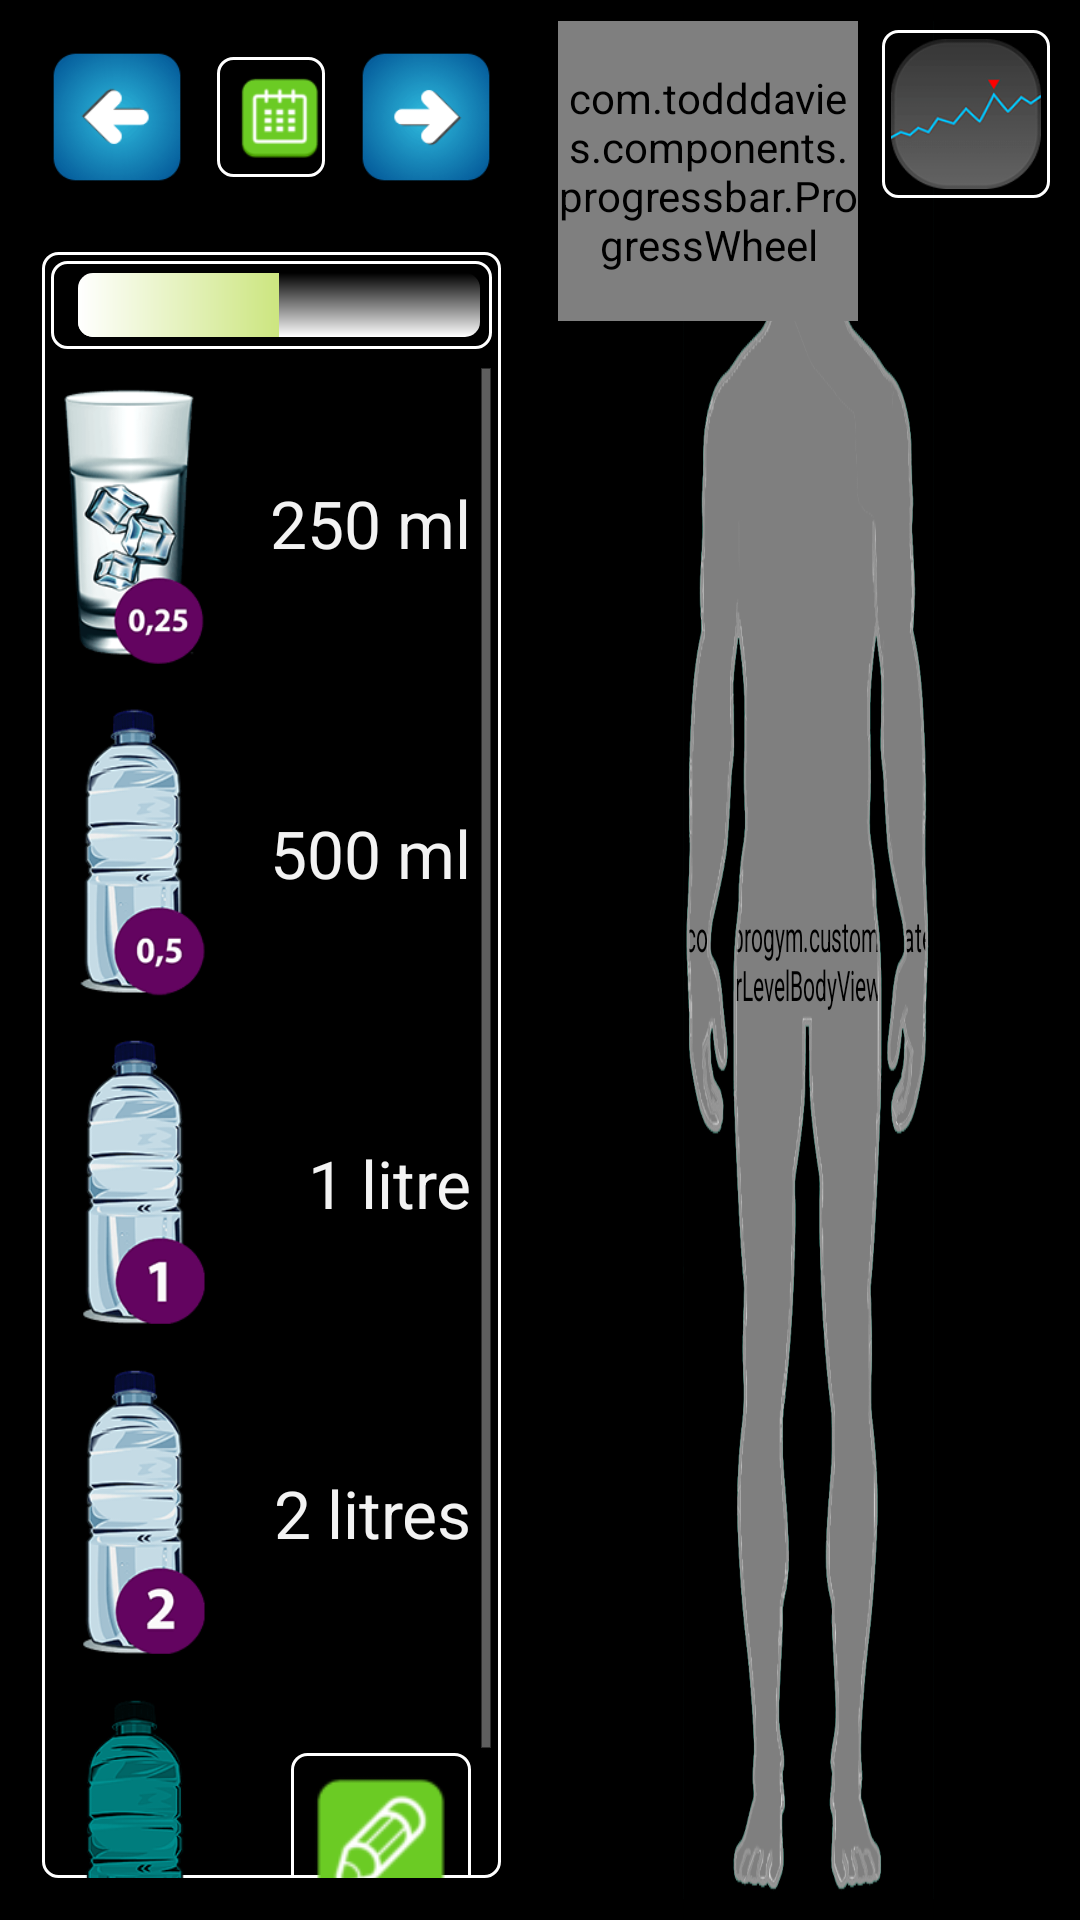

Icons on this 1080 × 1920 Android screen, each with the point to tap as (x=x, y=y):
bottle: (x=142, y=852), (x=144, y=1182), (x=144, y=1512)
calendar: (x=280, y=118)
glass: (x=133, y=527)
left: (x=117, y=117)
right: (x=426, y=117)
